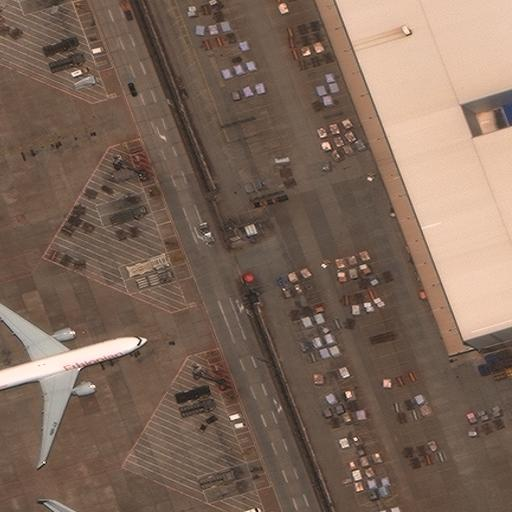Large Civil Transport: (0, 294, 147, 463)
